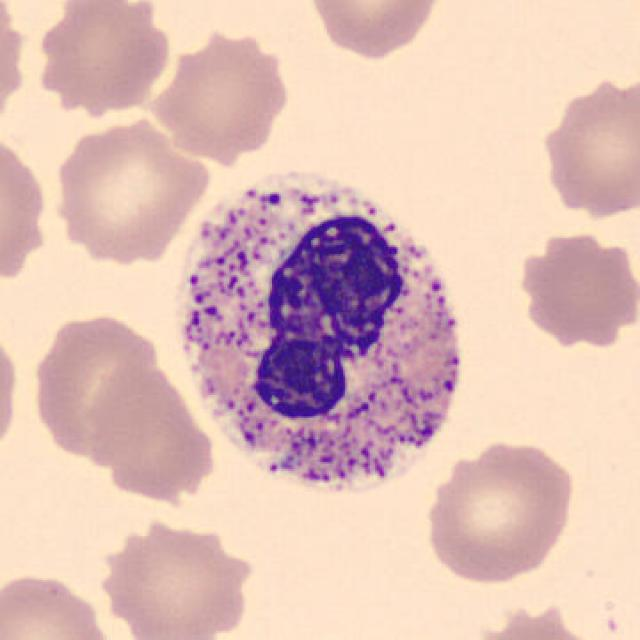Neutrophil: (164, 169, 487, 512)
RBC: (46, 113, 212, 264), (418, 436, 580, 587), (27, 307, 167, 467), (91, 513, 261, 640), (146, 23, 295, 160), (28, 0, 175, 119), (535, 67, 640, 222), (517, 228, 640, 356), (302, 0, 450, 62), (0, 125, 50, 295), (0, 567, 115, 640), (466, 601, 612, 640), (0, 321, 23, 464)
